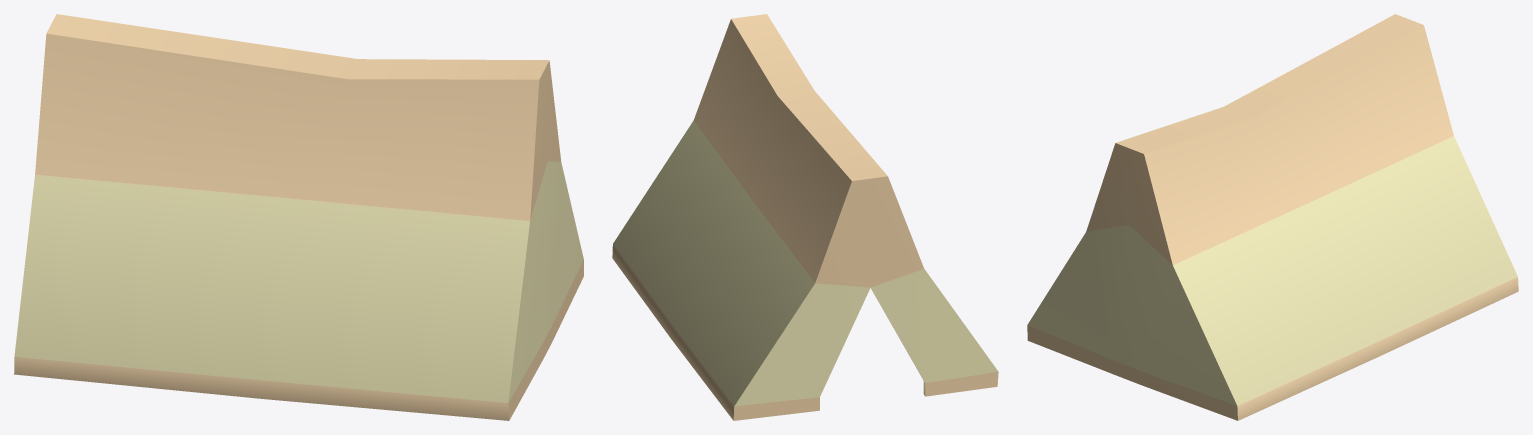
Rendered from Tent.FBX.
The picture shows the model from 3 angles, left to right: view 1: azimuth 30°, elevation 25°; view 2: azimuth 150°, elevation 25°; view 3: azimuth 270°, elevation 25°; orthographic projection. The views are drawn at different scales.
Visible parts, largest first — view 1: tent; view 2: tent; view 3: tent.
Part boxes in pixels (x1,y1,x2,y2): tent: (14, 14, 583, 420); tent: (612, 14, 998, 420); tent: (1027, 14, 1518, 420).
Size of the model in its own units: 70.25 by 35.93 by 69.18.
1 material, 1 textured.
